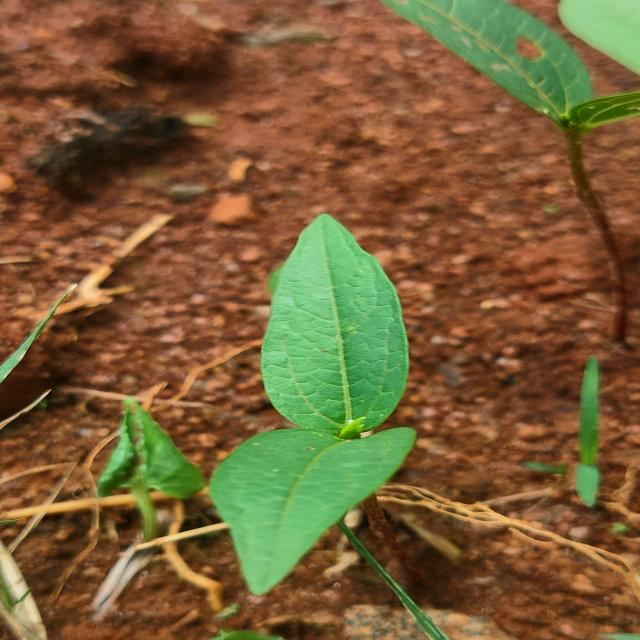Black gram_healthy: (204, 422, 426, 598), (259, 213, 406, 437)
